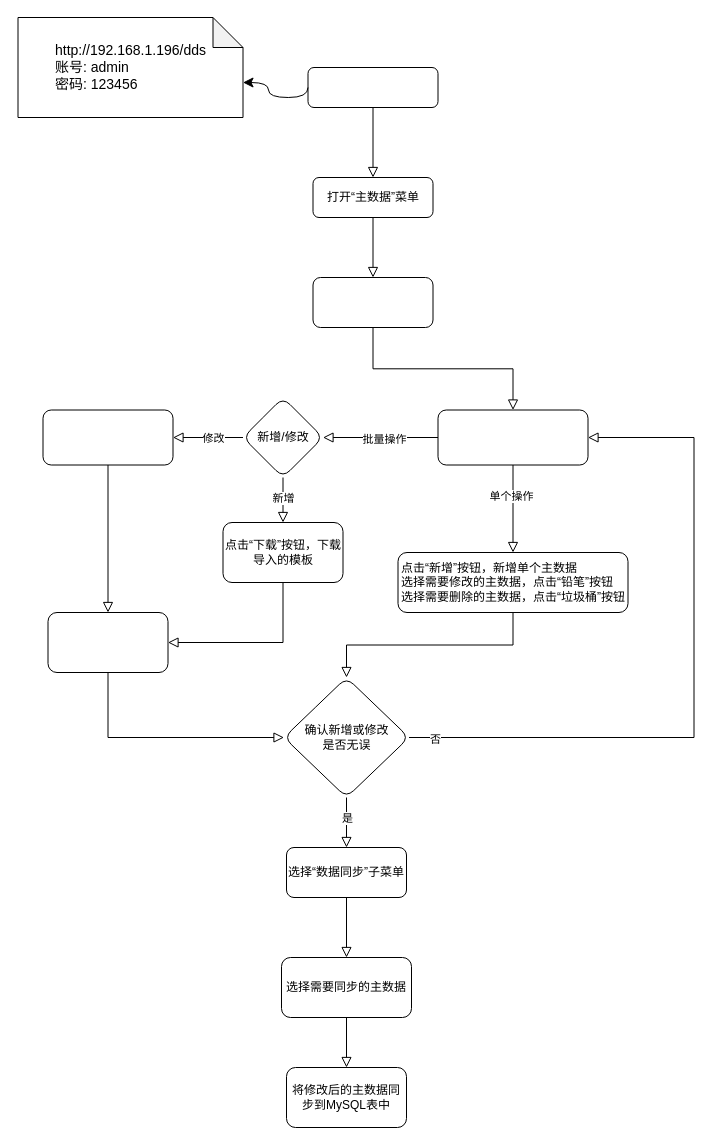
The diagram is 721 pixels wide and 1145 high, and some of its shapes have lost their labels. Each missing label, with the centre of its shape:
导出当前所有数据成为Excel编辑: the point at 107,437
点击“导入”按钮，导入修改或填写完成的Excel: the point at 107,642
登录DDS后台管理系统: the point at 372,87
选择“数据维护”子菜单: the point at 372,302
选择配置项分类，找到需要维护的主数据: the point at 512,437
